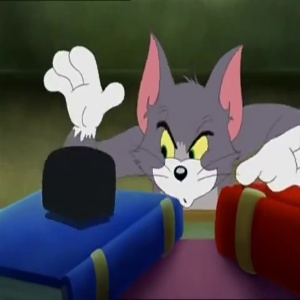Tom: (131, 32, 247, 205)
